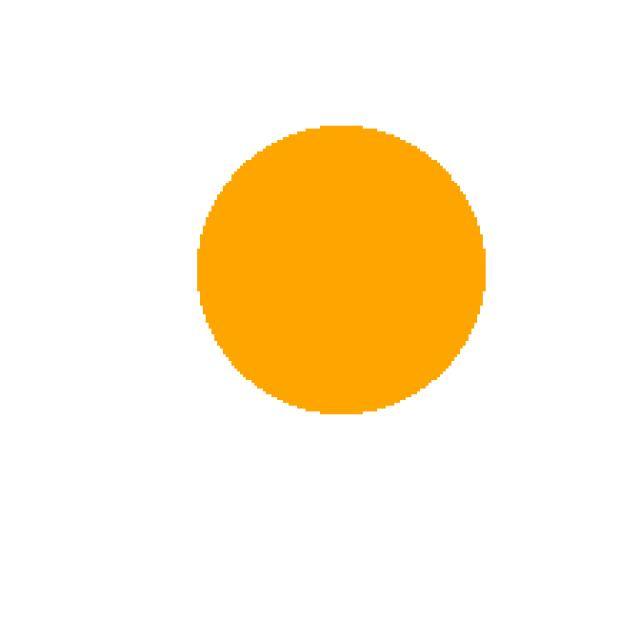Circle: (168, 100, 508, 430)
